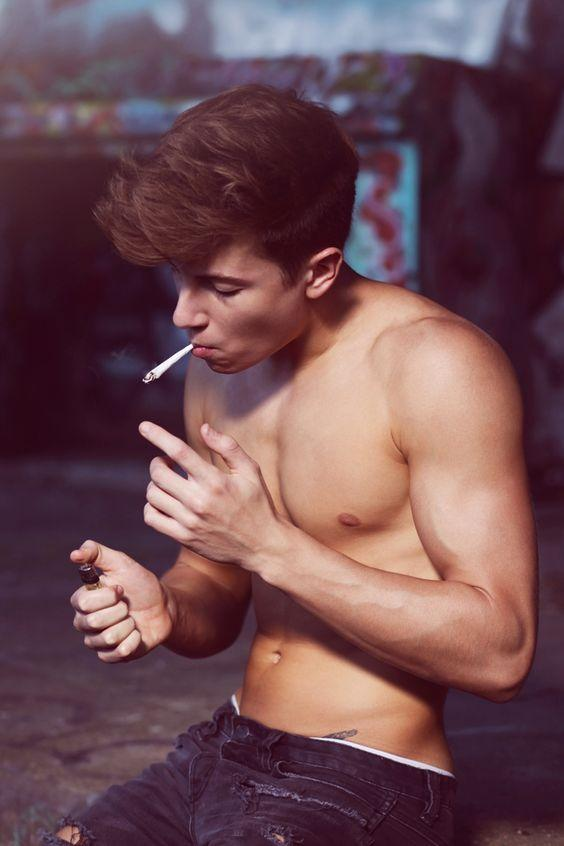cigarette: (142, 343, 193, 384)
